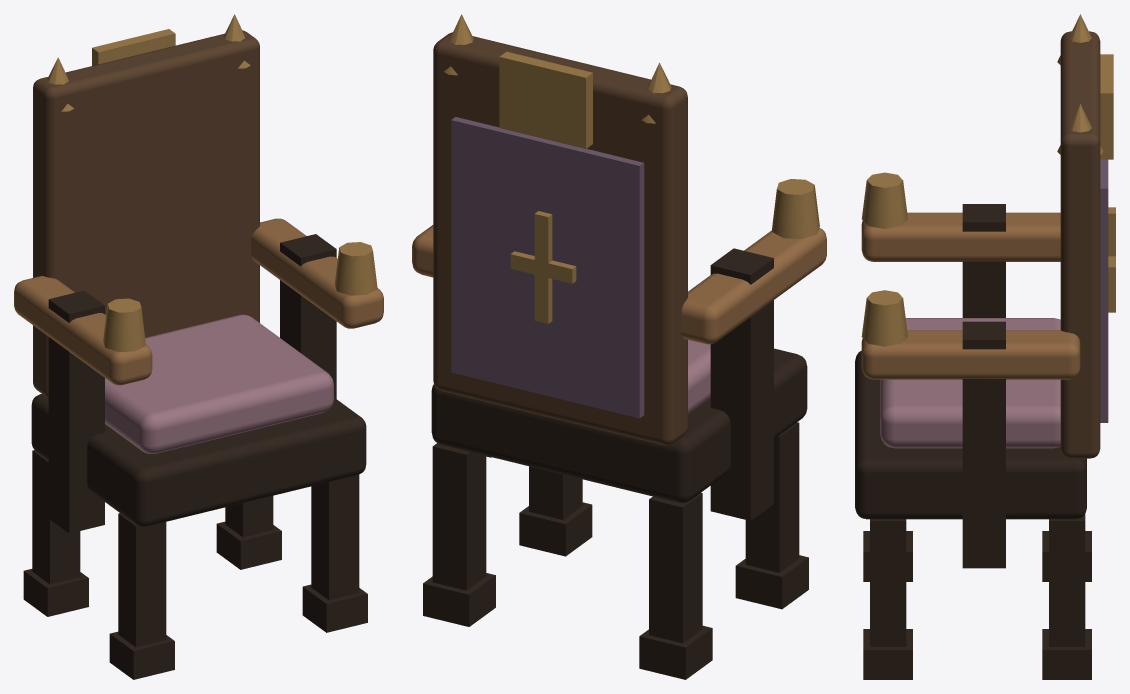
Rendered from sk_royal_throne.glb.
3 views of the same model, side by side, from view 1: azimuth 30°, elevation 25°; view 2: azimuth 150°, elevation 25°; view 3: azimuth 270°, elevation 25° (orthographic). The views are drawn at different scales.
Visible parts, largest first — view 1: wood, cloth, metal; view 2: wood, cloth, metal; view 3: wood, cloth, metal.
Part boxes in pixels (<box>): wood: <box>14,30,383,679</box>; cloth: <box>105,314,333,453</box>; metal: <box>47,14,377,352</box>; wood: <box>412,32,826,679</box>; cloth: <box>451,117,710,418</box>; metal: <box>443,14,819,323</box>; wood: <box>855,31,1100,679</box>; cloth: <box>880,159,1108,448</box>; metal: <box>861,14,1115,346</box>.
Size of the model in its own units: 0.99 by 1.87 by 0.787.
